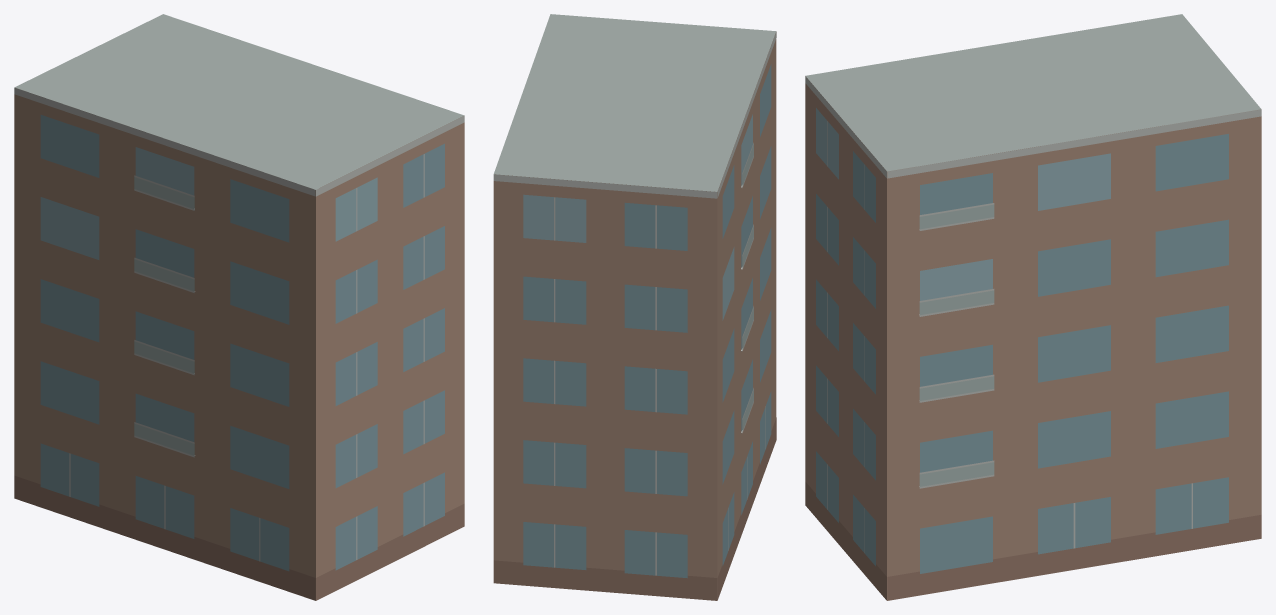
The model's file is survey-upis-32952995.glb.
3 views of the same model, side by side, from view 1: azimuth 30°, elevation 25°; view 2: azimuth 150°, elevation 25°; view 3: azimuth 270°, elevation 25° (orthographic). The views are drawn at different scales.
Visible parts, largest first — view 1: survey-upis-32952995.tmp; view 2: survey-upis-32952995.tmp; view 3: survey-upis-32952995.tmp.
Part boxes in pixels (x1,y1,x2,y2): survey-upis-32952995.tmp: (14, 14, 464, 600); survey-upis-32952995.tmp: (493, 14, 776, 600); survey-upis-32952995.tmp: (805, 14, 1261, 600).
Bounding box in the file's own units: 11.66 × 14.8 × 14.27.
